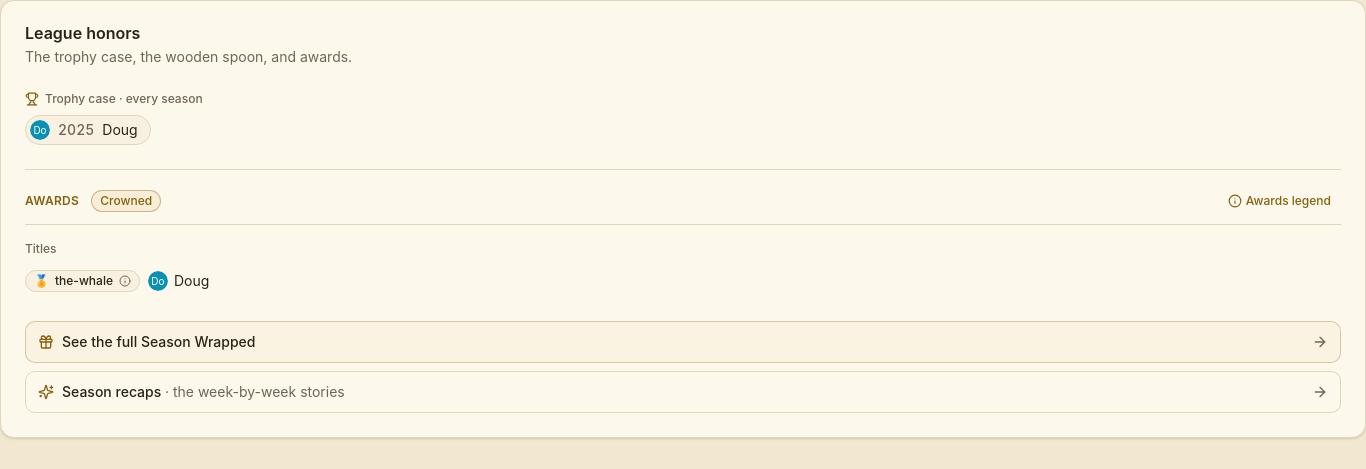
Test: LeagueHonors — tap-to-explain award popover (#881) › shows the holder's winning measure below the description
What coordinates should you click on to do the following:
click the button with test id "badge-chip-the-whale"
I would click on:
 (82, 281)
Its box is [25,265,140,297].
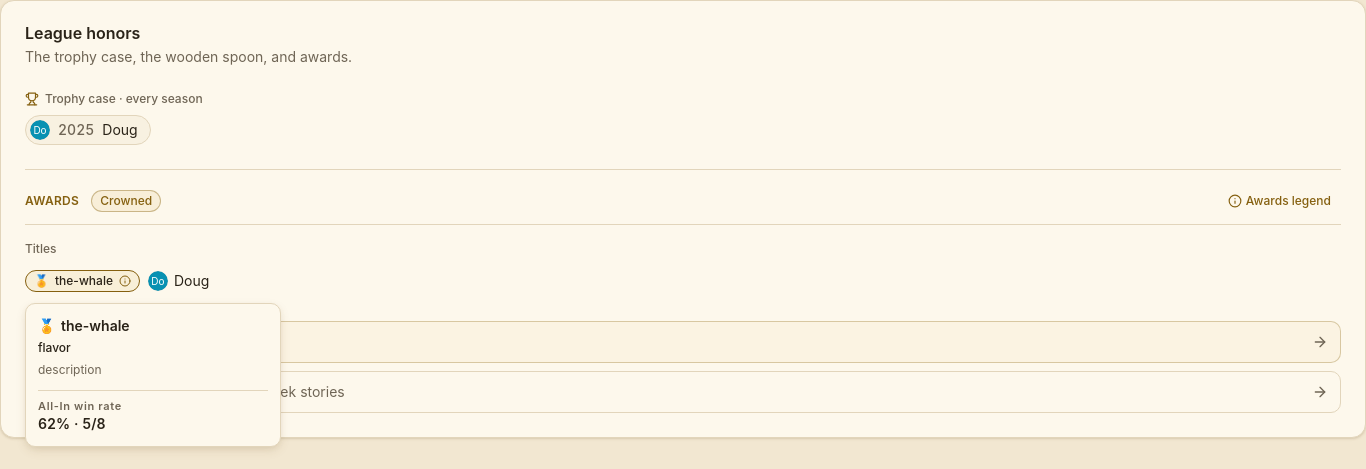
Result: the element with test id "badge-holder-detail-the-whale-Doug" shows "All-In win rate" at [38,399,122,413]
Result: the element with test id "badge-holder-detail-the-whale-Doug" shows "62% · 5/8" at [38,415,106,432]
